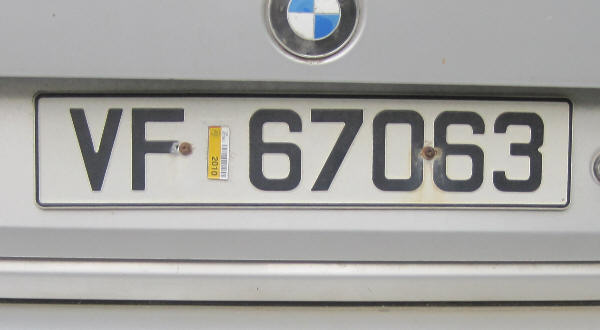license_plate: (33, 89, 574, 209)
